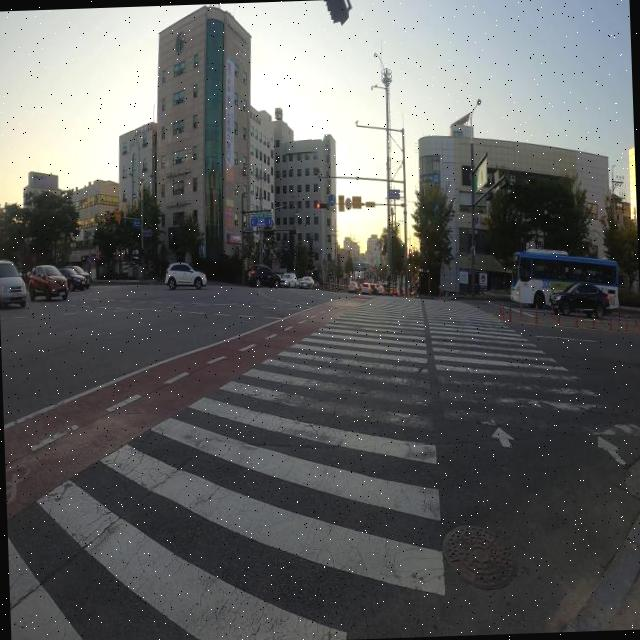crosswalk: (7, 294, 640, 640)
